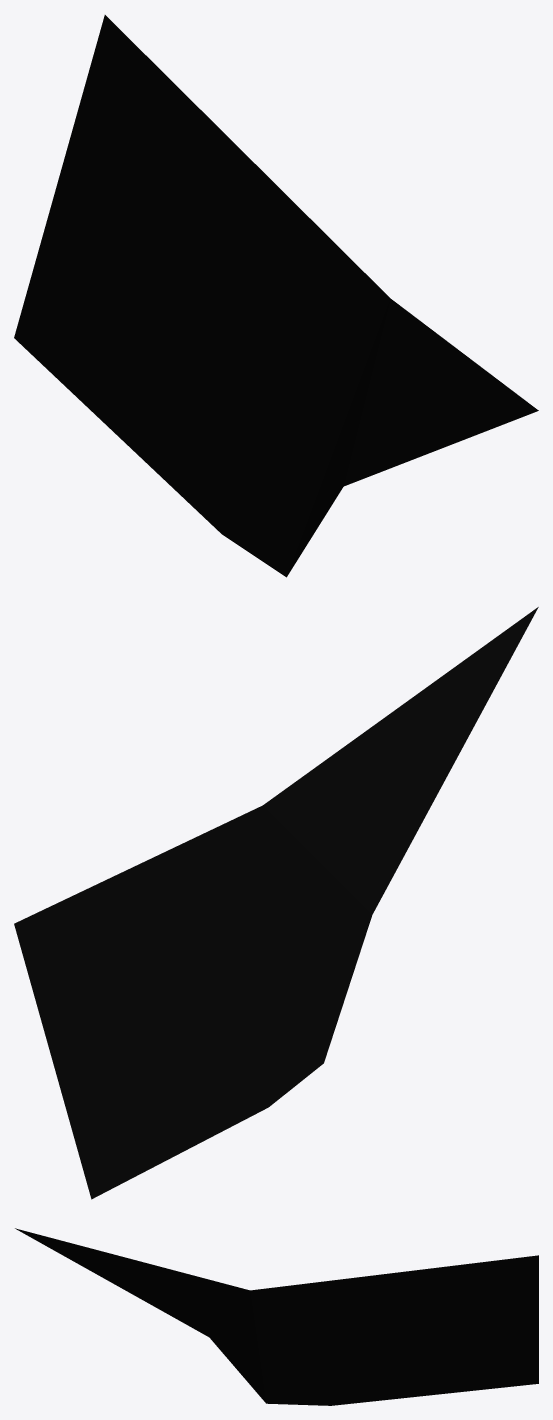
3 renders of one model, top to bottom at view 1: azimuth 30°, elevation 25°; view 2: azimuth 150°, elevation 25°; view 3: azimuth 270°, elevation 25°, orthographic. The views are drawn at different scales.
Size of the model in its own units: 0.6948 by 2.6 by 6.95.
1 material, 1 textured.
